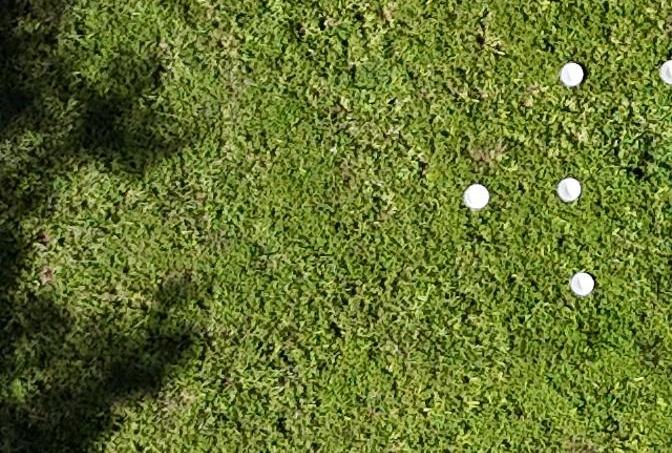bowl: (558, 61, 586, 89), (461, 184, 491, 210), (568, 271, 595, 298), (555, 177, 581, 203), (657, 59, 672, 85)
